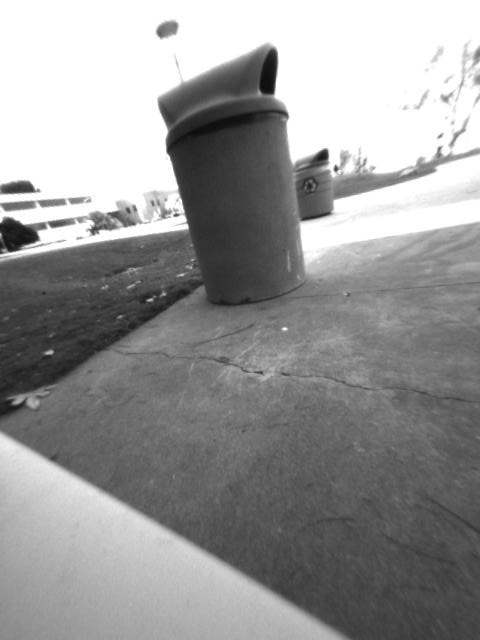trashcan: (145, 38, 325, 314)
